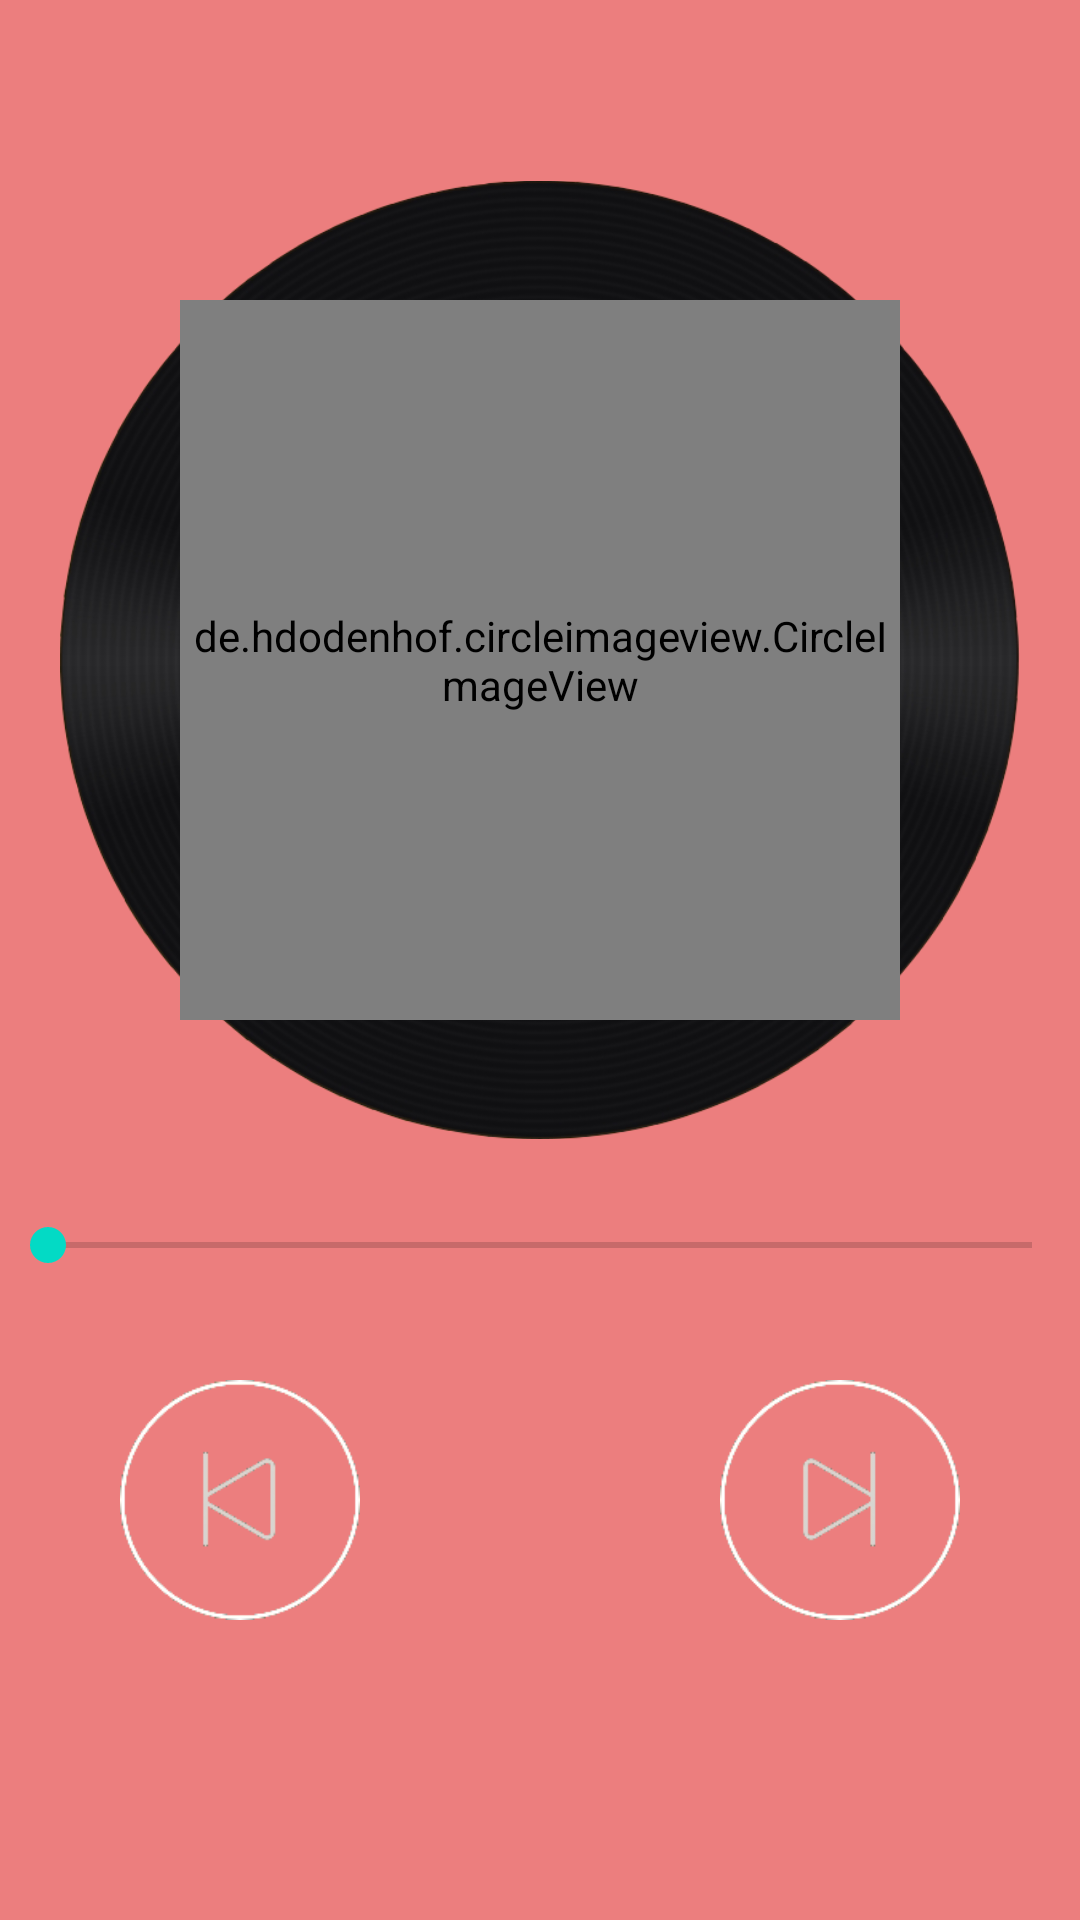

Point at icon controls on the screen. Image size 1080 x 1920, points as (x=x, y=y).
next: (x=840, y=1500)
previous: (x=240, y=1500)
